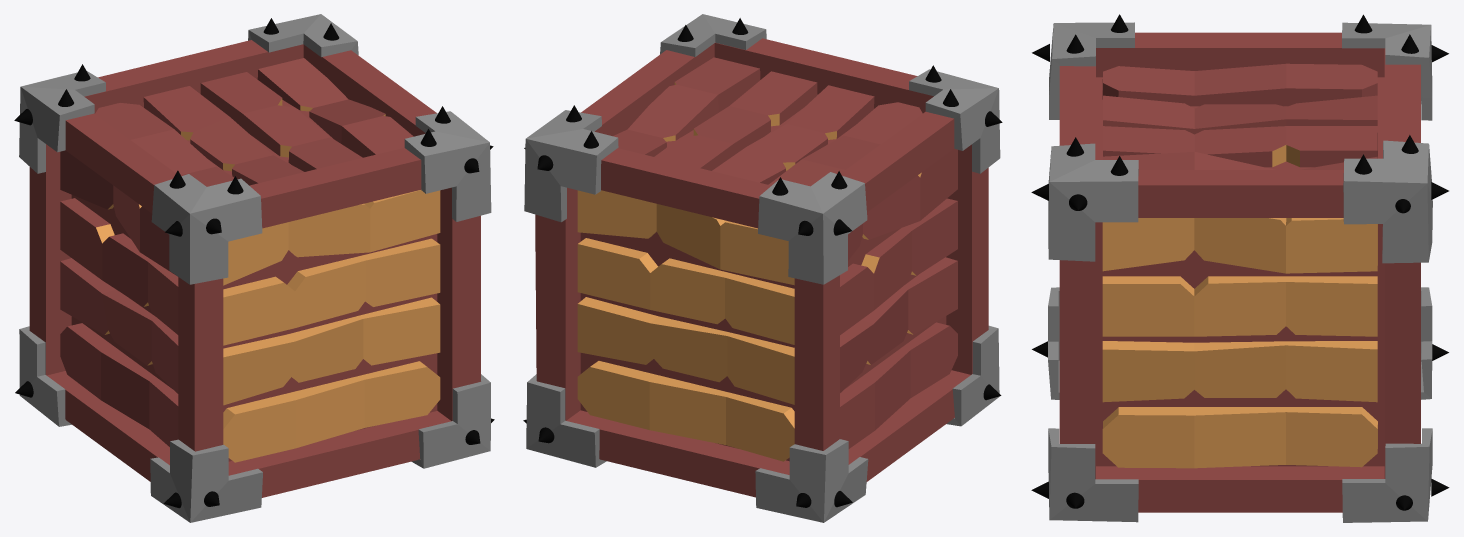
Rendered from cajita.fbx.
3 views of the same model, side by side, from view 1: azimuth 30°, elevation 25°; view 2: azimuth 150°, elevation 25°; view 3: azimuth 270°, elevation 25° (orthographic). The views are drawn at different scales.
Visible parts, largest first — view 1: Cubo, Cubo.002, Cubo.001, Cono; view 2: Cubo, Cubo.002, Cubo.001, Cono; view 3: Cubo, Cubo.002, Cubo.001, Cono.
Boxes of the visible parts, <box> form: Cubo: <box>29,40,480,497</box>; Cubo.002: <box>96,98,440,462</box>; Cubo.001: <box>19,14,491,522</box>; Cono: <box>14,18,494,508</box>; Cubo: <box>535,38,988,497</box>; Cubo.002: <box>577,82,921,461</box>; Cubo.001: <box>524,14,1000,522</box>; Cono: <box>523,18,1002,507</box>; Cubo: <box>1059,32,1420,512</box>; Cubo.002: <box>1102,145,1377,468</box>; Cubo.001: <box>1048,22,1432,522</box>; Cono: <box>1031,14,1449,510</box>.
Bounding box in the file's own units: 231 × 221 × 232.
